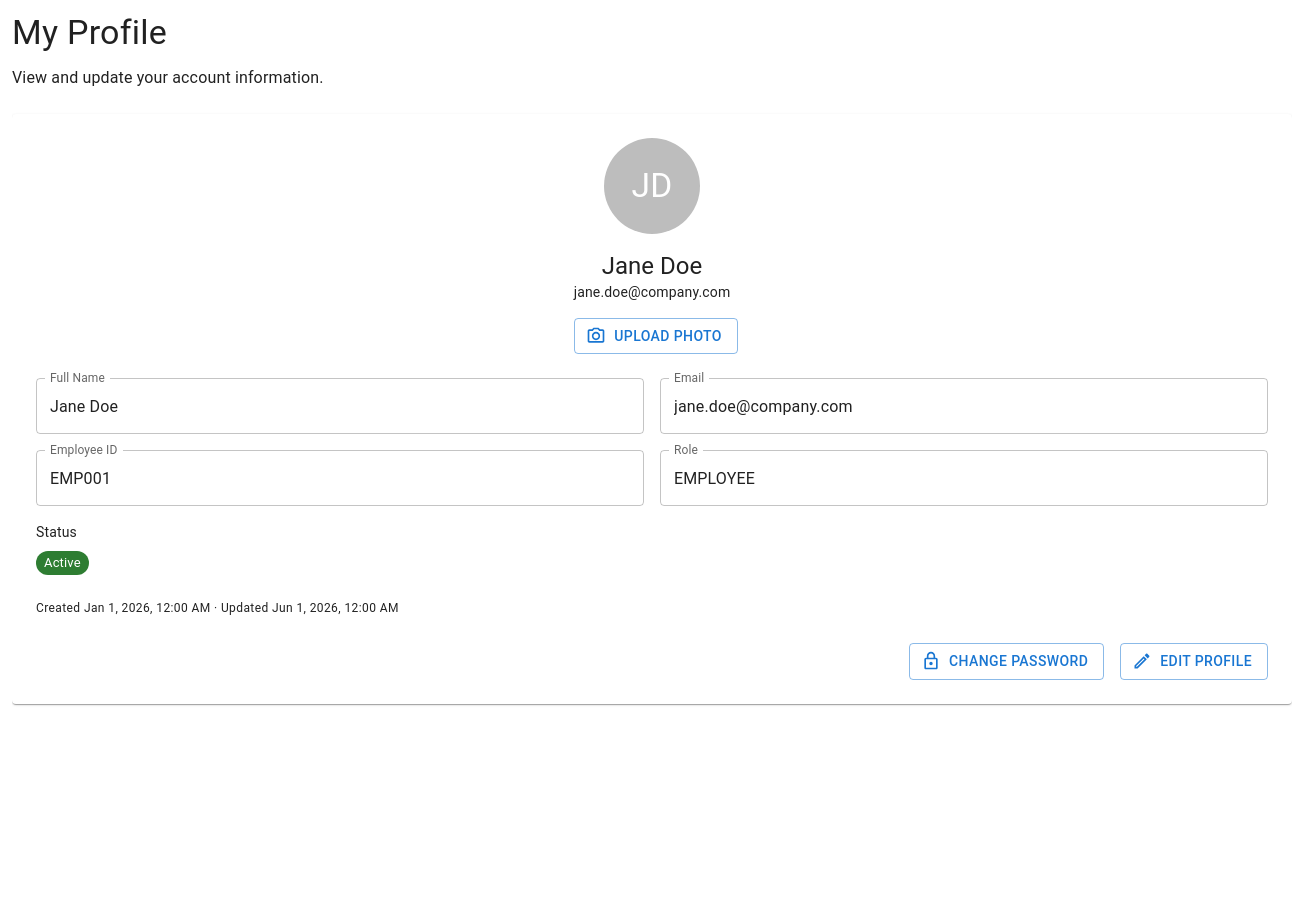
ProfilePage › cancels edit mode without saving
This screenshot has width=1292, height=912.
Click the button "Edit Profile".
click(1194, 661)  # box [1120,643,1268,680]
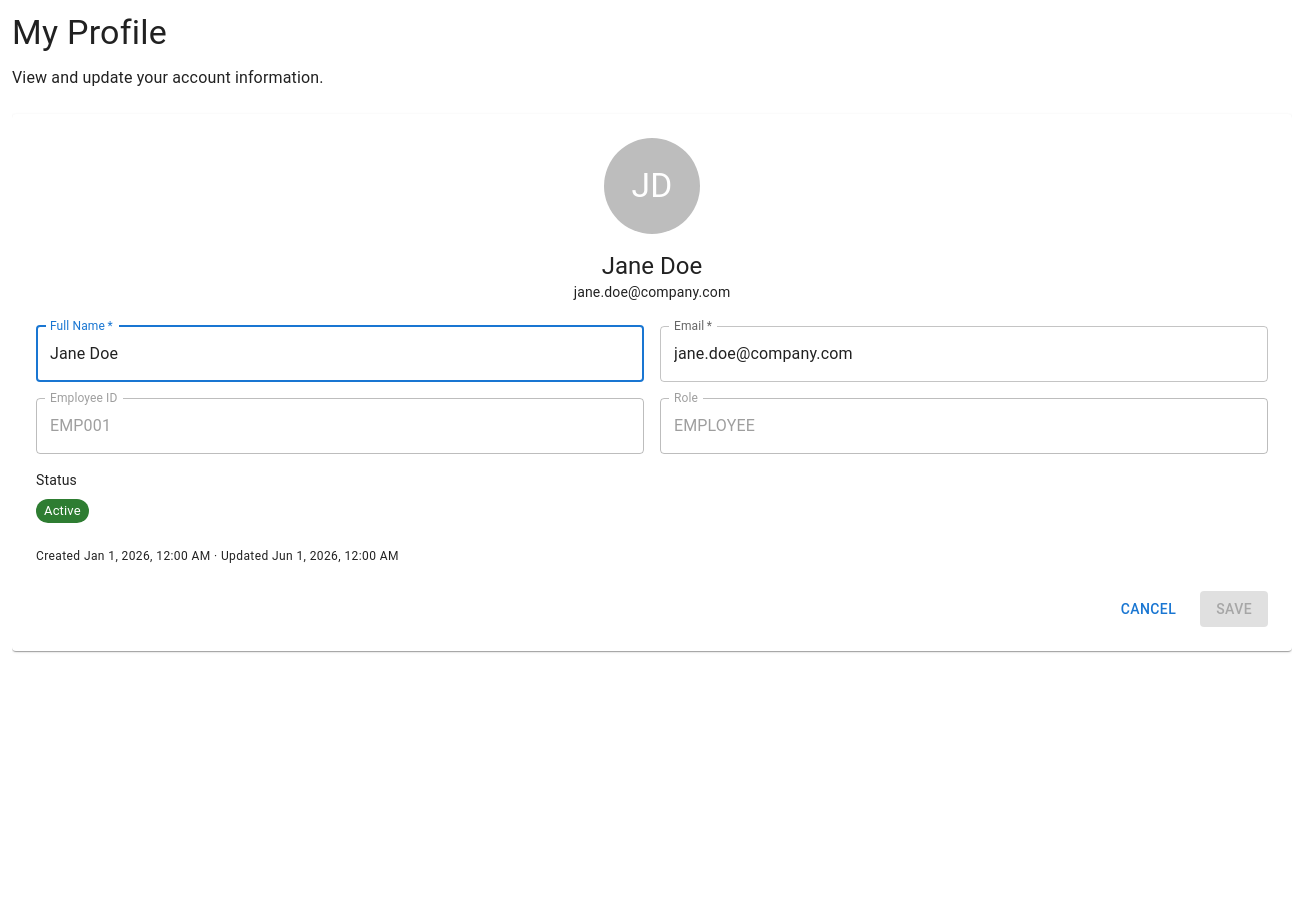
Replace the text in the field labelled "Full Name" with "Jane Doe Updated" at (340, 354), box [36,326,644,382]
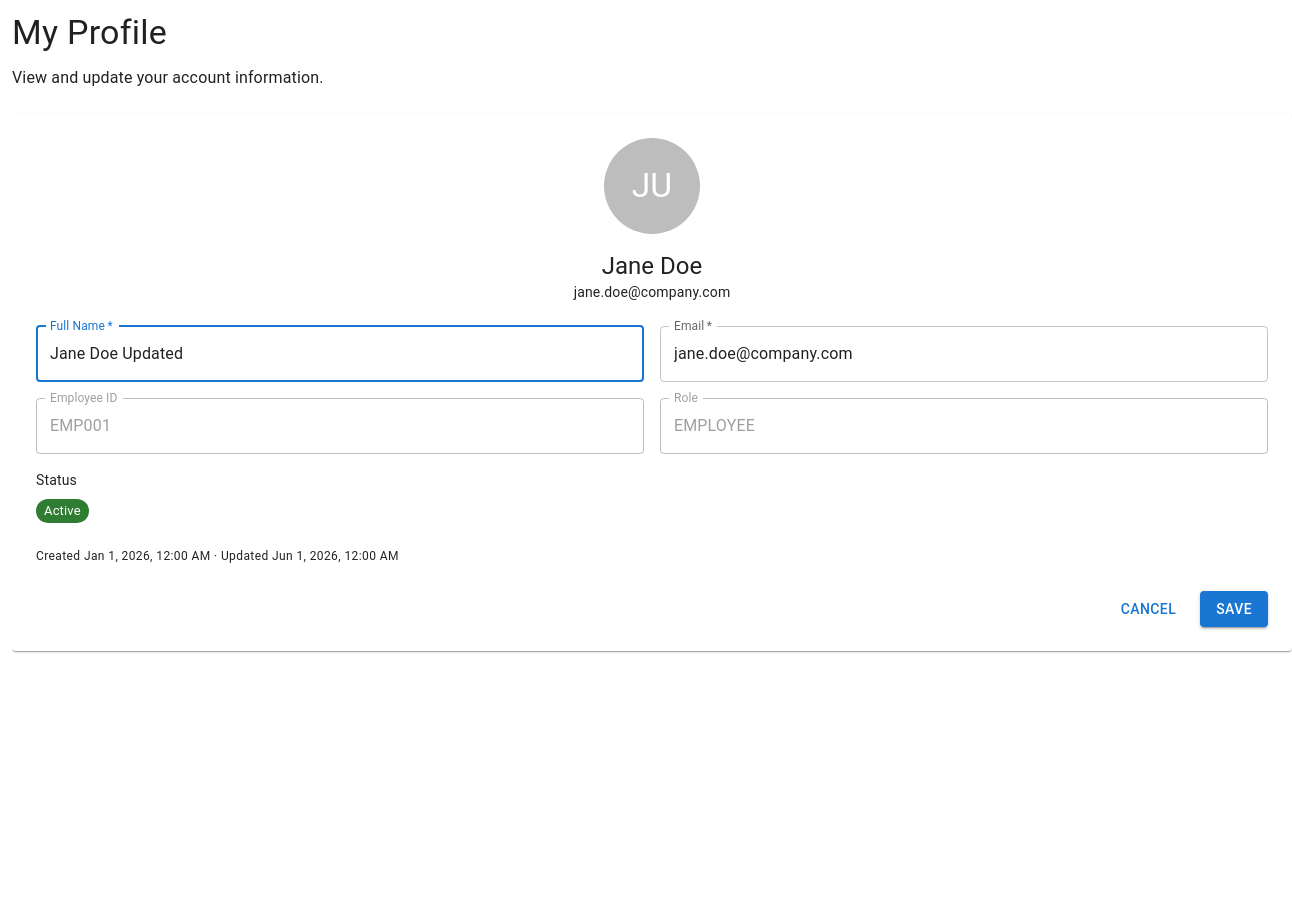
Click the button "Cancel".
click(1148, 609)  # box [1113,591,1184,627]
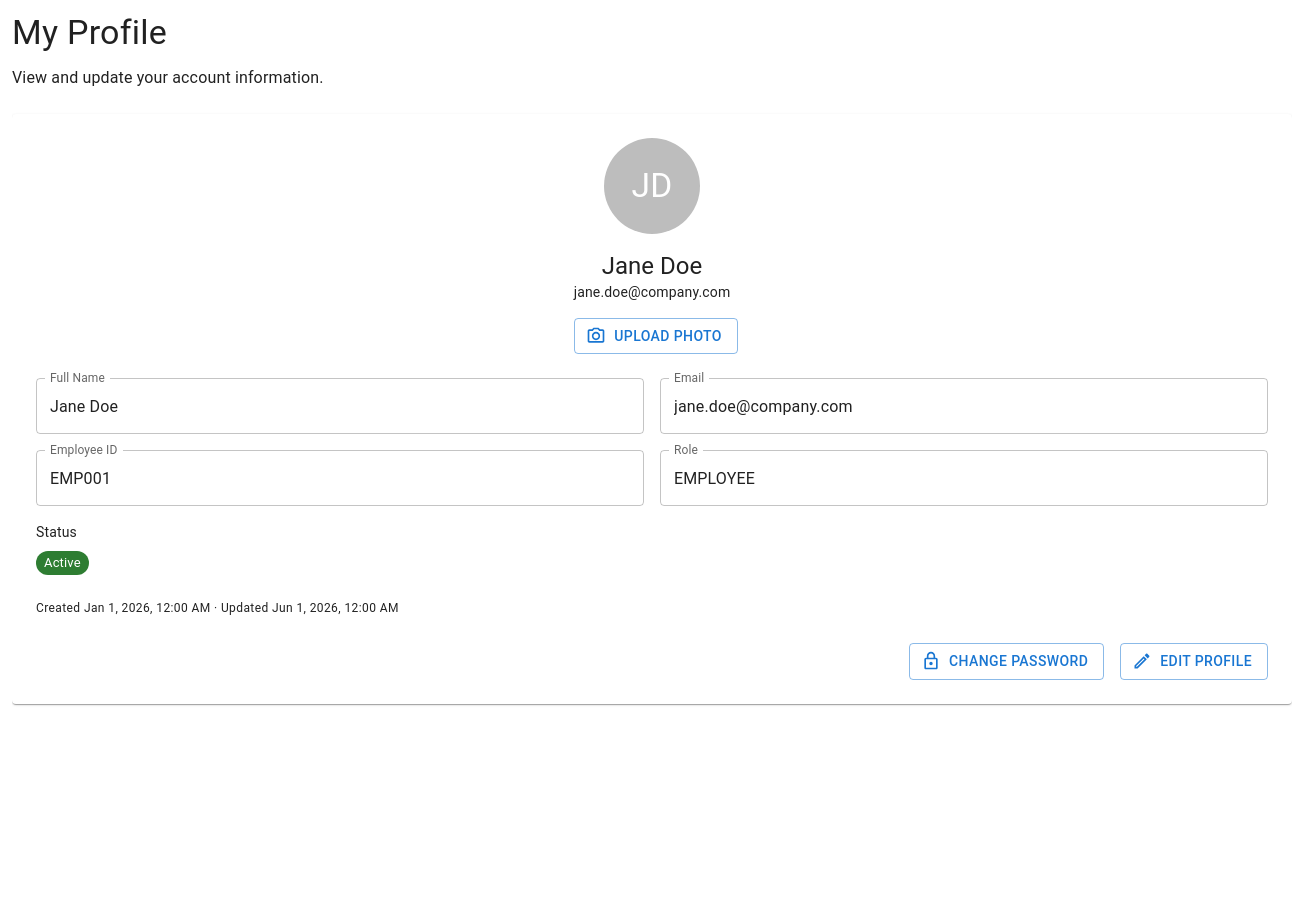
expect the button "Edit Profile" is shown: met, box [1120,643,1268,680]
